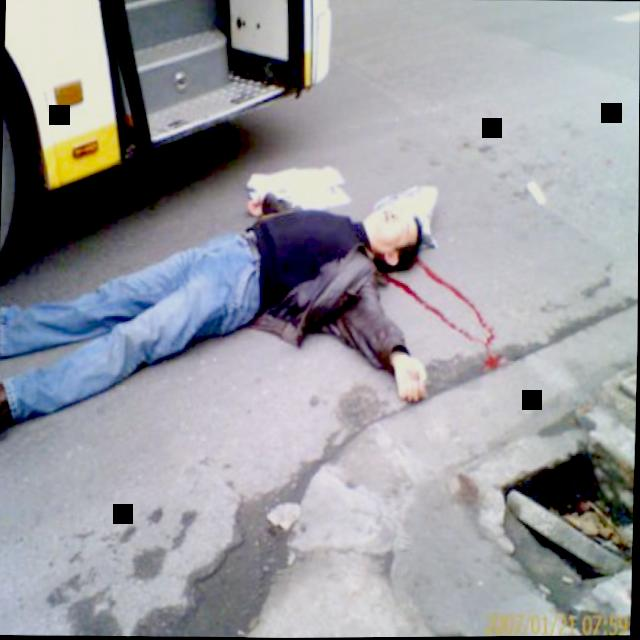Fall-Detected: (0, 166, 453, 453)
